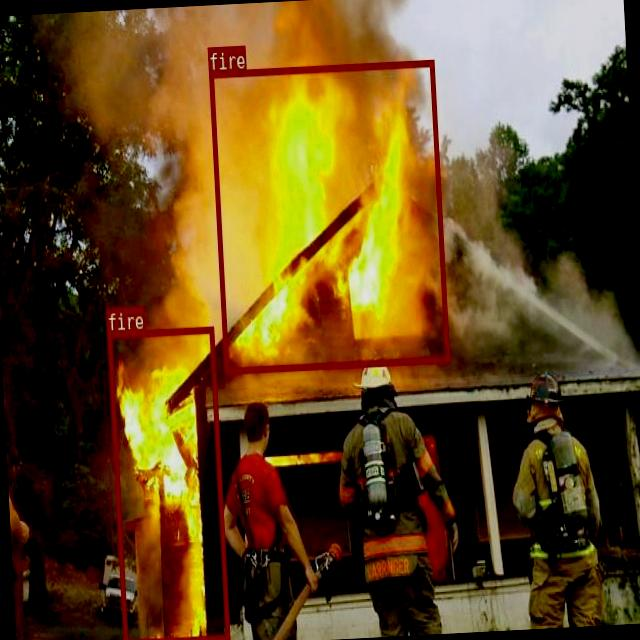fire: (208, 59, 449, 372), (107, 325, 229, 640)
